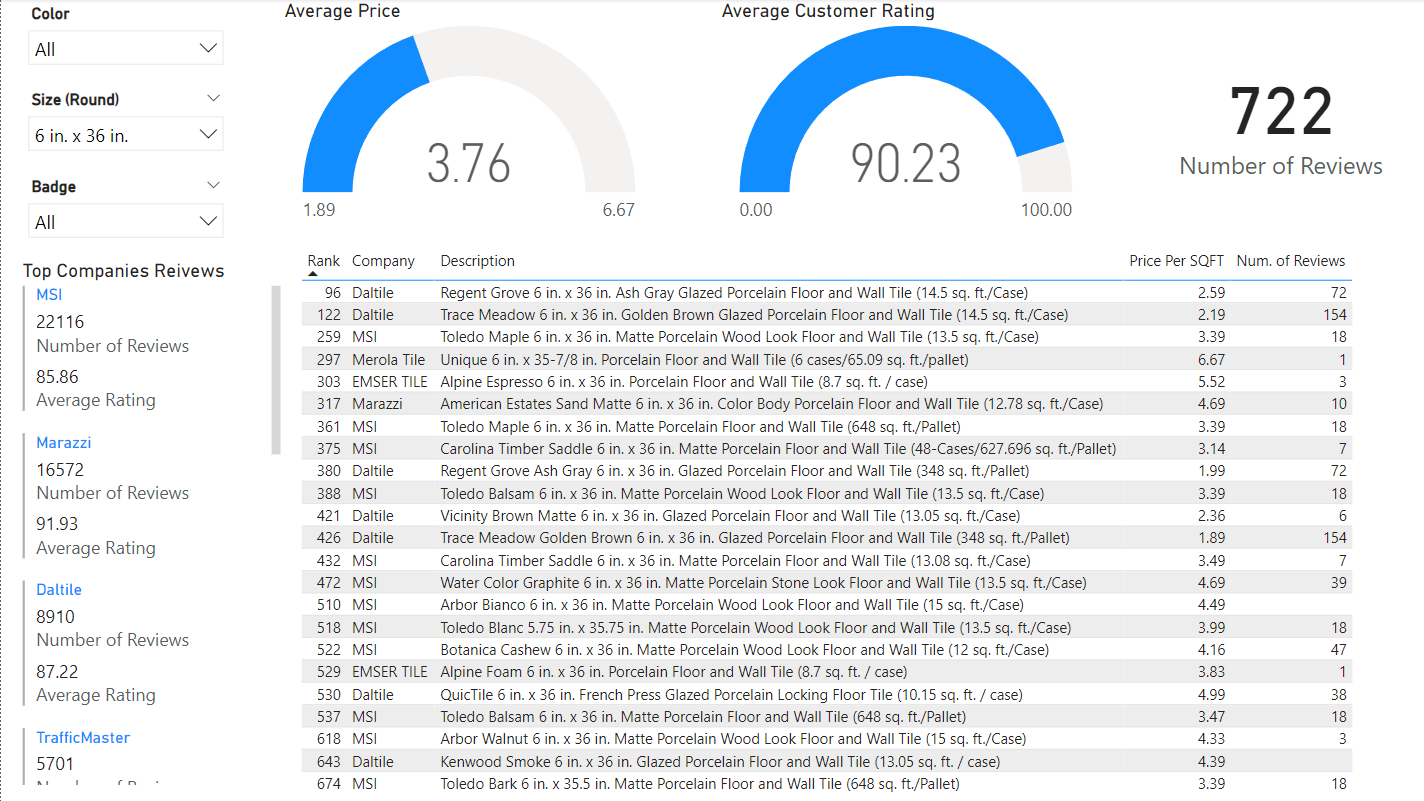

The page's visual inventory and layout, read from the dashboard file:
{"tool":"powerbi","page":{"name":"Page 1","canvas":[1280,720],"ordinal":0},"visuals":[{"type":"tableEx","fields":{"Values":["Clean_Data.Rank","Clean_Data.Company","Clean_Data.Description","Clean_Data.Price","Clean_Data.Num. of Reviews"]},"box":[263.4,219.7,1016.6,500.5],"z":0},{"type":"card","fields":{"Values":["Sum(Clean_Data.Num. of Reviews)"]},"box":[1033.1,42.8,225.5,124.4],"z":1000},{"type":"gauge","title":"Average Customer Rating","fields":{"Y":["Avg(Clean_Data.Rating)"],"MaxValue":["Max(Clean_Data.Rating)"]},"box":[640.5,0,340.2,209],"z":2000},{"type":"slicer","fields":{"Values":["Clean_Data.Color"]},"box":[30.1,17.5,195.4,77.8],"z":3000},{"type":"slicer","fields":{"Values":["Clean_Data.Badge"]},"box":[30.1,180.8,195.4,77.8],"z":4000},{"type":"gauge","title":"Average Price","fields":{"Y":["Avg(Clean_Data.Price)"],"MaxValue":["Max(Clean_Data.Price)1"],"MinValue":["Min(Clean_Data.Price)2"]},"box":[248.8,0,340.2,209],"z":5000},{"type":"slicer","fields":{"Values":["Clean_Data.Size (Round)"]},"box":[30.1,95.2,195.4,77.8],"z":6000}]}

Visuals, with their boxes in screenshot pixels (x1, y1, x2, y2), scaled from the page's 1280x720 canvas onto the 1424x801 screenshot:
tableEx - Clean_Data.Rank x Clean_Data.Company: box=[293, 244, 1423, 800]
card - Sum(Clean_Data.Num. of Reviews): box=[1149, 48, 1400, 186]
"Average Customer Rating" gauge: box=[713, 0, 1091, 233]
slicer - Clean_Data.Color: box=[33, 19, 251, 106]
slicer - Clean_Data.Badge: box=[33, 201, 251, 288]
"Average Price" gauge: box=[277, 0, 655, 233]
slicer - Clean_Data.Size (Round): box=[33, 106, 251, 192]
